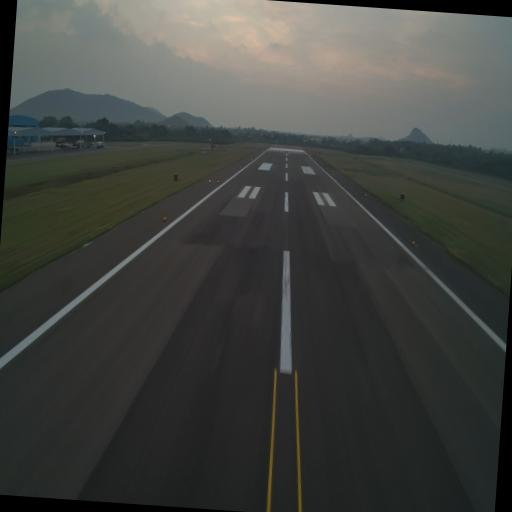on: (410, 238, 416, 248), (162, 214, 168, 223)
